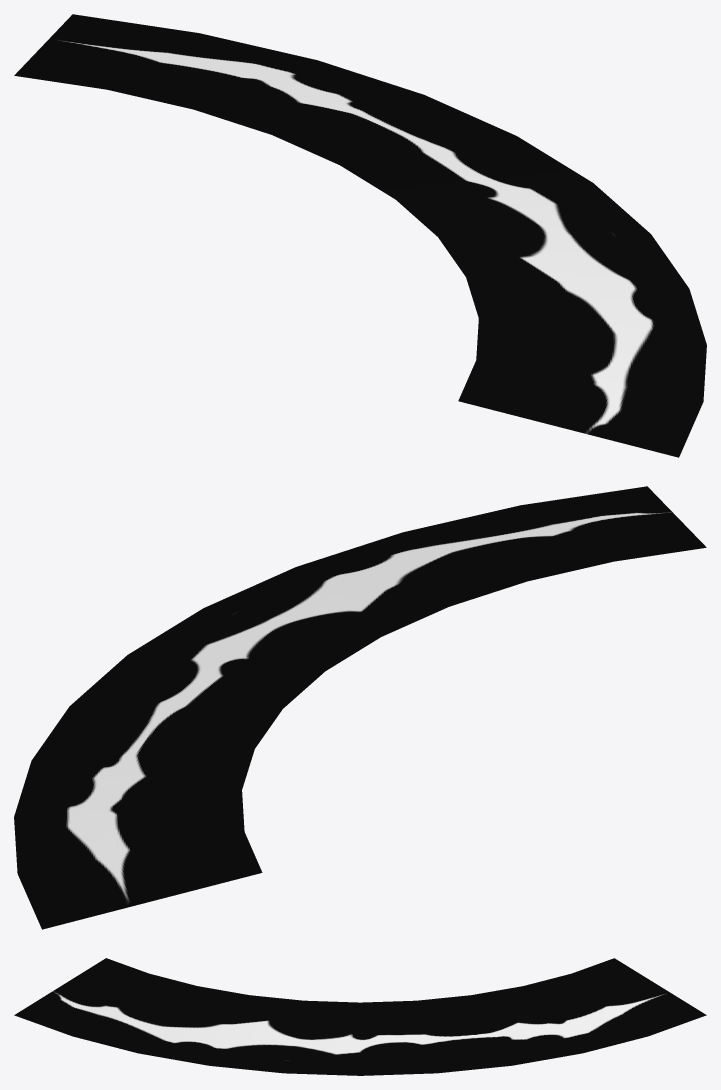
Rendered from ClawMark3.fbx.
The picture shows the model from 3 angles, top to bottom: view 1: azimuth 30°, elevation 25°; view 2: azimuth 150°, elevation 25°; view 3: azimuth 270°, elevation 25°; orthographic projection. The views are drawn at different scales.
Visible parts, largest first — view 1: ClawMark3; view 2: ClawMark3; view 3: ClawMark3.
Boxes of the visible parts, <box> form: ClawMark3: <box>14,14,706,457</box>; ClawMark3: <box>14,486,706,929</box>; ClawMark3: <box>14,958,706,1075</box>.
Size of the model in its own units: 72.48 by 6.15 by 213.
1 material, 1 textured.
